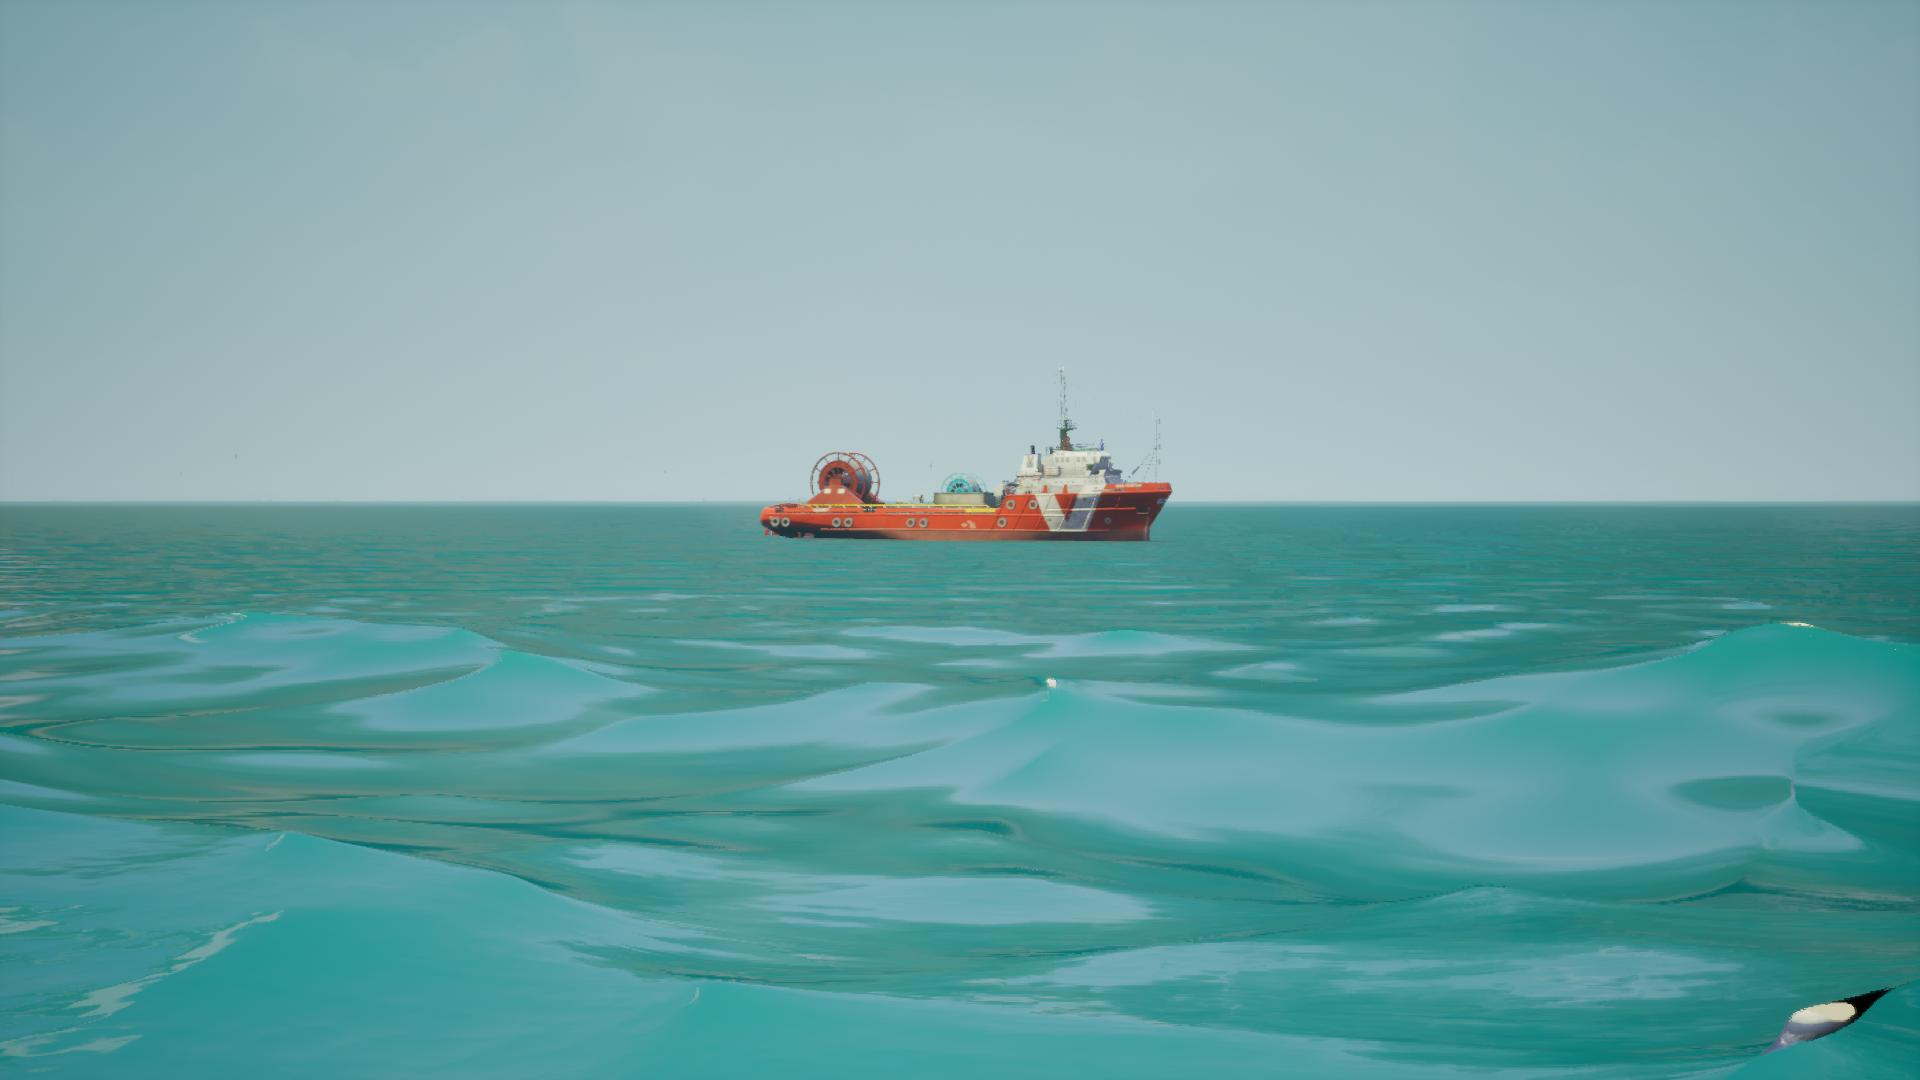Tug Boat: (764, 368, 1174, 545)
